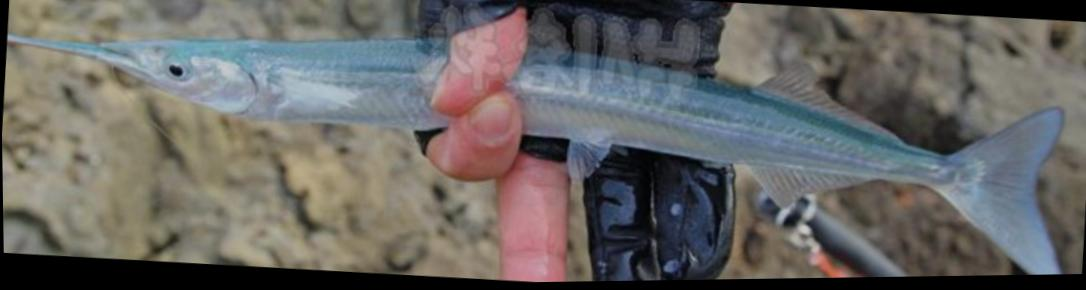fish: (7, 34, 1065, 278)
